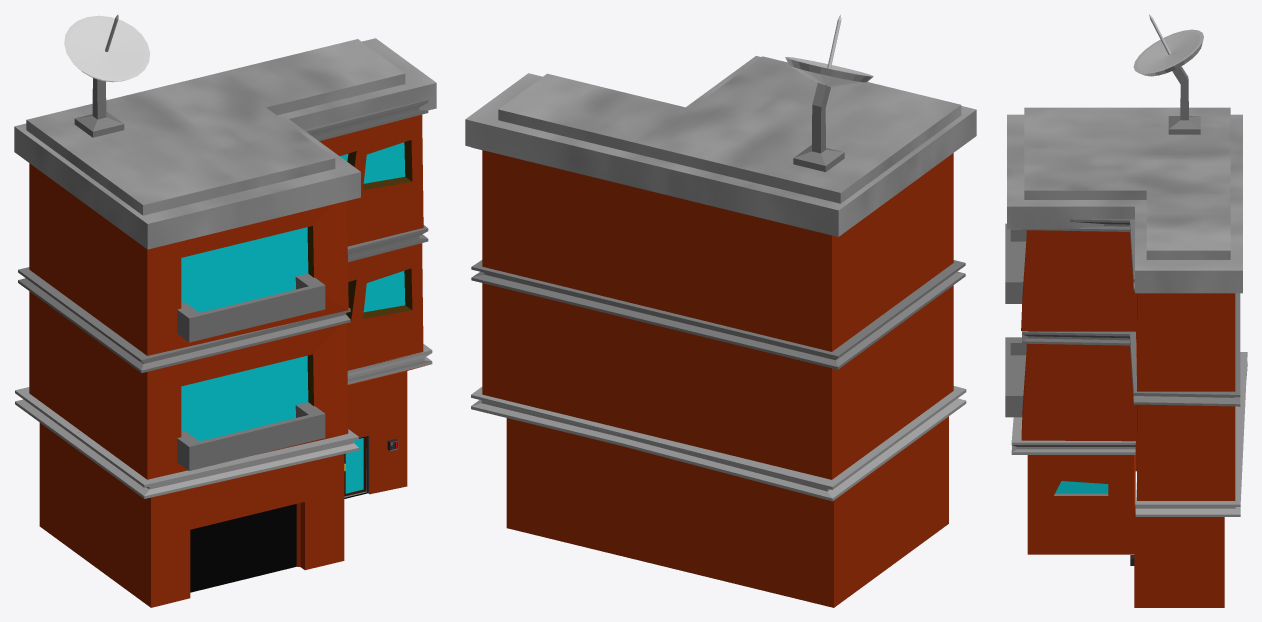
Rendered from PredioFormatoLLOD0 1.fbx.
The picture shows the model from 3 angles, left to right: view 1: azimuth 30°, elevation 25°; view 2: azimuth 150°, elevation 25°; view 3: azimuth 270°, elevation 25°; orthographic projection. The views are drawn at different scales.
Visible parts, largest first — view 1: Predio4LOD0; view 2: Predio4LOD0; view 3: Predio4LOD0.
Boxes of the visible parts, x1,y1,x2,y2 form: Predio4LOD0: (14,14,436,607); Predio4LOD0: (465,14,976,607); Predio4LOD0: (1005,14,1247,607).
Bounding box in the file's own units: 1080 × 1527 × 710.
